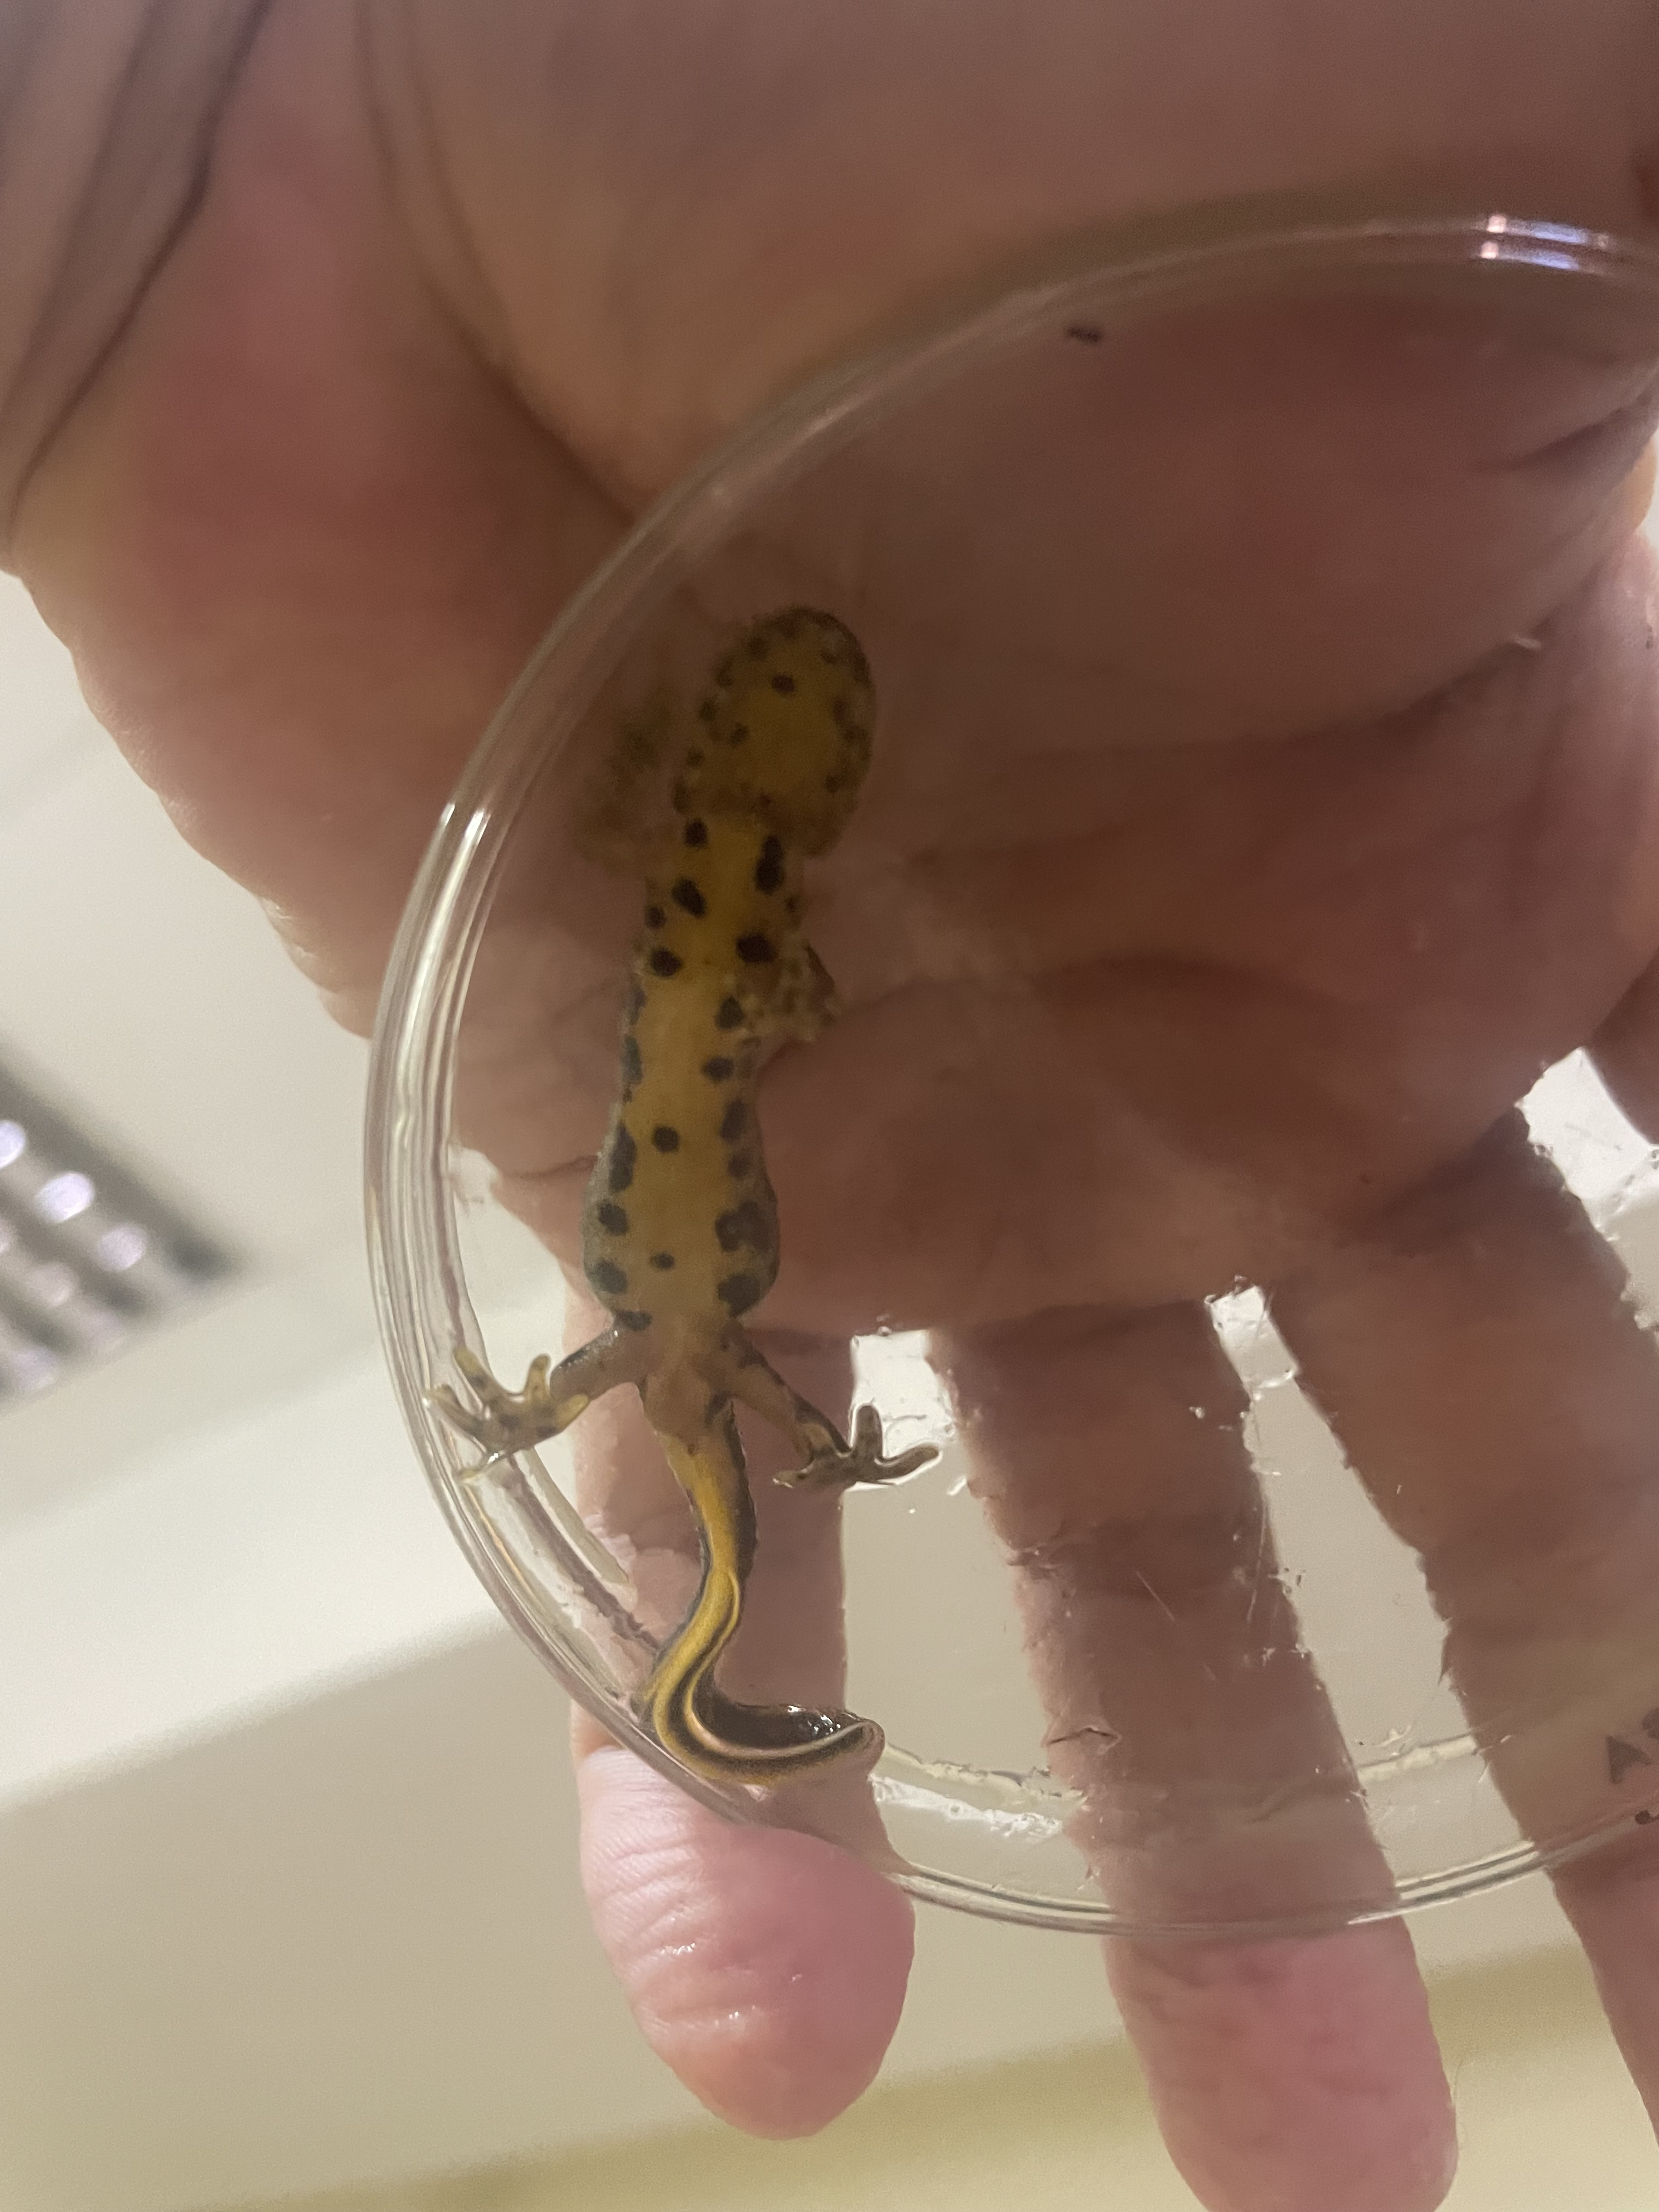Karelin_newt: (580, 876, 789, 1320)
